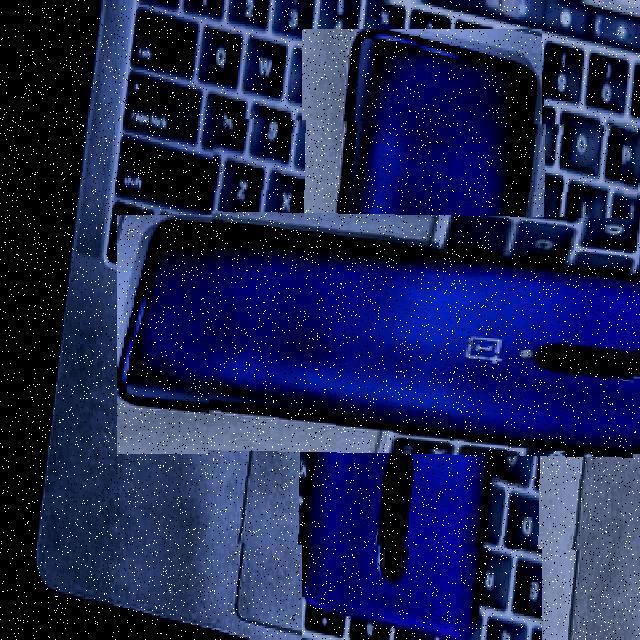Phone: (208, 120, 637, 549)
